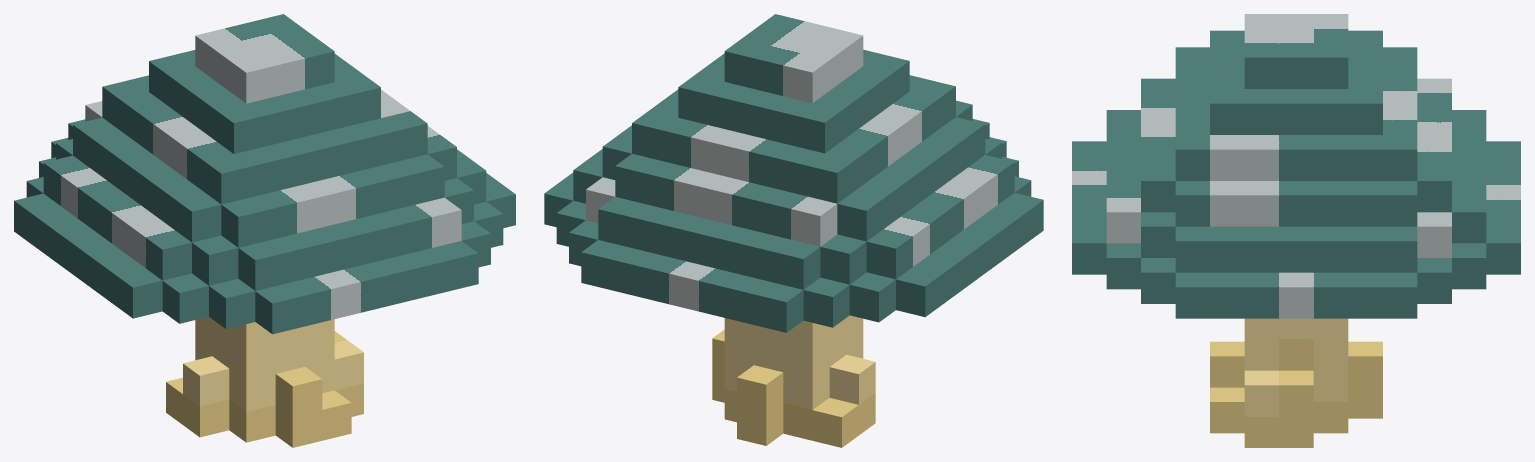
Rendered from mushroom2a.fbx.
3 renders of one model, left to right at view 1: azimuth 30°, elevation 25°; view 2: azimuth 150°, elevation 25°; view 3: azimuth 270°, elevation 25°, orthographic. The views are drawn at different scales.
Parts seen in each view (by area): view 1: mushroom2a; view 2: mushroom2a; view 3: mushroom2a.
Boxes of the visible parts, x1=… form: mushroom2a: x1=14, y1=14, x2=515, y2=447; mushroom2a: x1=544, y1=14, x2=1043, y2=447; mushroom2a: x1=1072, y1=14, x2=1520, y2=447.
Bounding box in the file's own units: 13 × 12 × 13.
Materials: 1 (1 with a texture image).
